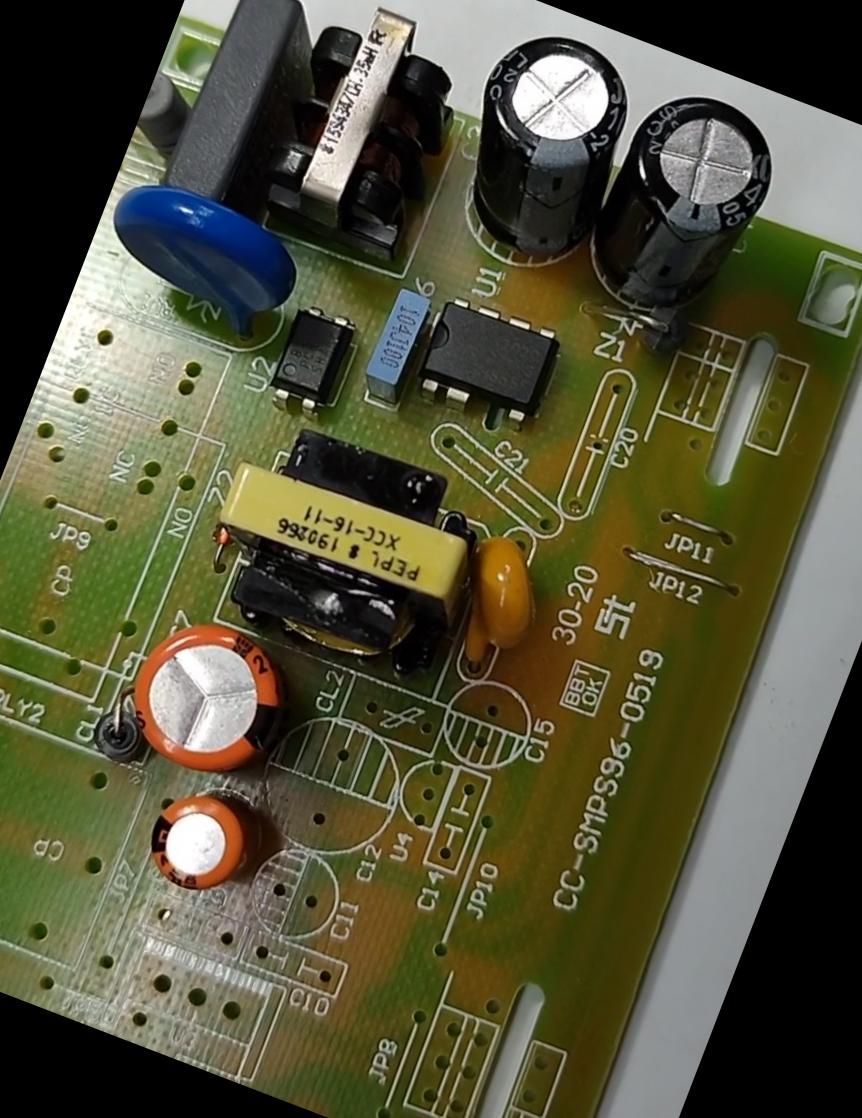Cap1: (99, 597, 304, 798)
Cap2: (126, 770, 264, 914)
Cap3: (422, 0, 656, 272)
Cap4: (560, 62, 805, 357)
MOSFET: (392, 278, 578, 454)
Mov: (79, 160, 312, 351)
Resistor: (130, 35, 204, 156)
Transformer: (179, 392, 522, 719), (219, 0, 489, 298)
